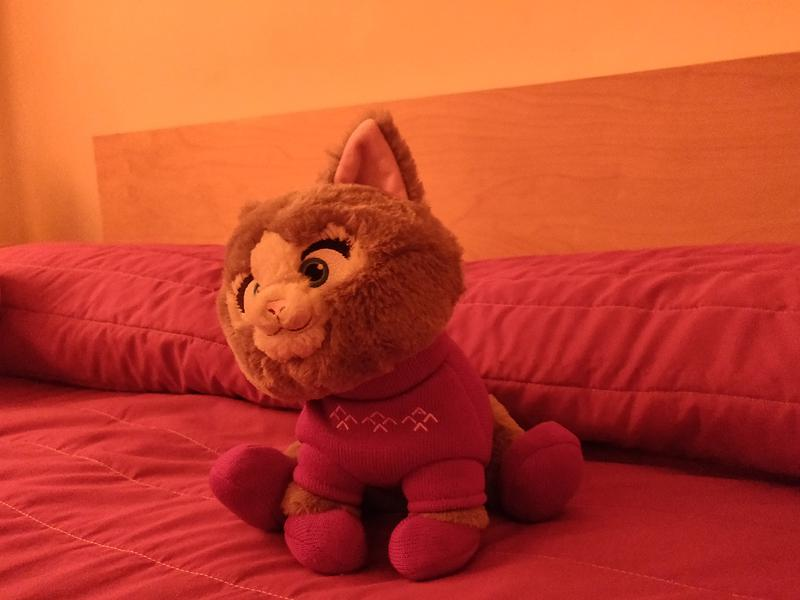kitten: (201, 102, 586, 571)
